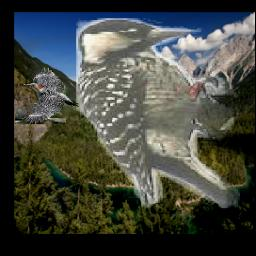Woodpecker: (76, 19, 240, 209), (15, 65, 79, 124)
